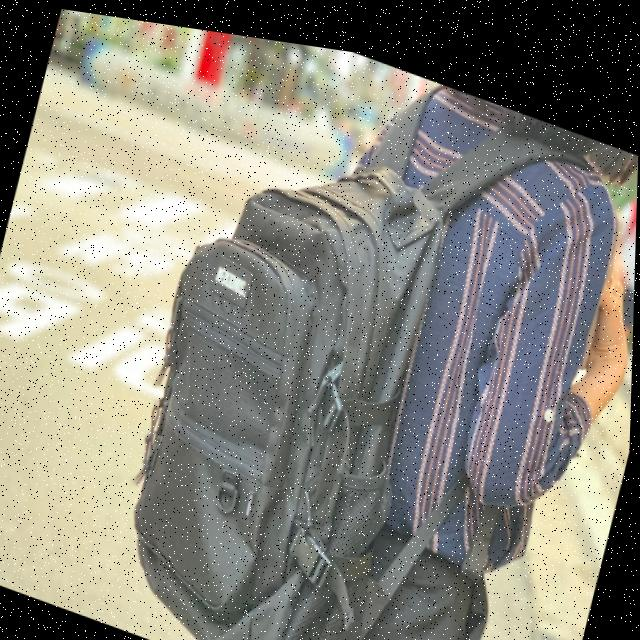backpack: (79, 86, 536, 640)
